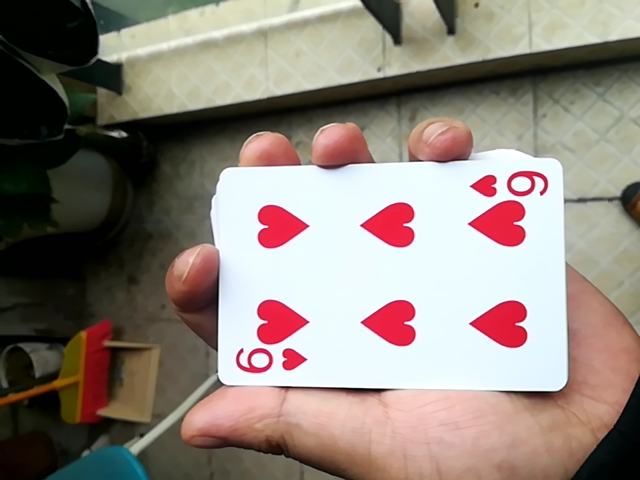hx 6: (208, 159, 570, 398)
